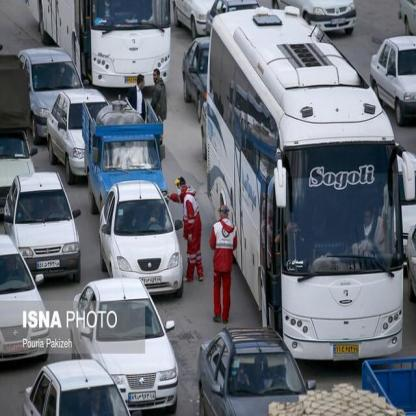Bus: (200, 6, 406, 369), (25, 0, 173, 85)
Car: (80, 280, 184, 416), (96, 187, 190, 299), (198, 327, 310, 416), (81, 98, 173, 198), (9, 172, 82, 284), (0, 231, 51, 363), (16, 363, 132, 416), (0, 60, 42, 201), (21, 39, 82, 135), (52, 96, 114, 178), (374, 20, 416, 128), (301, 0, 361, 38)
